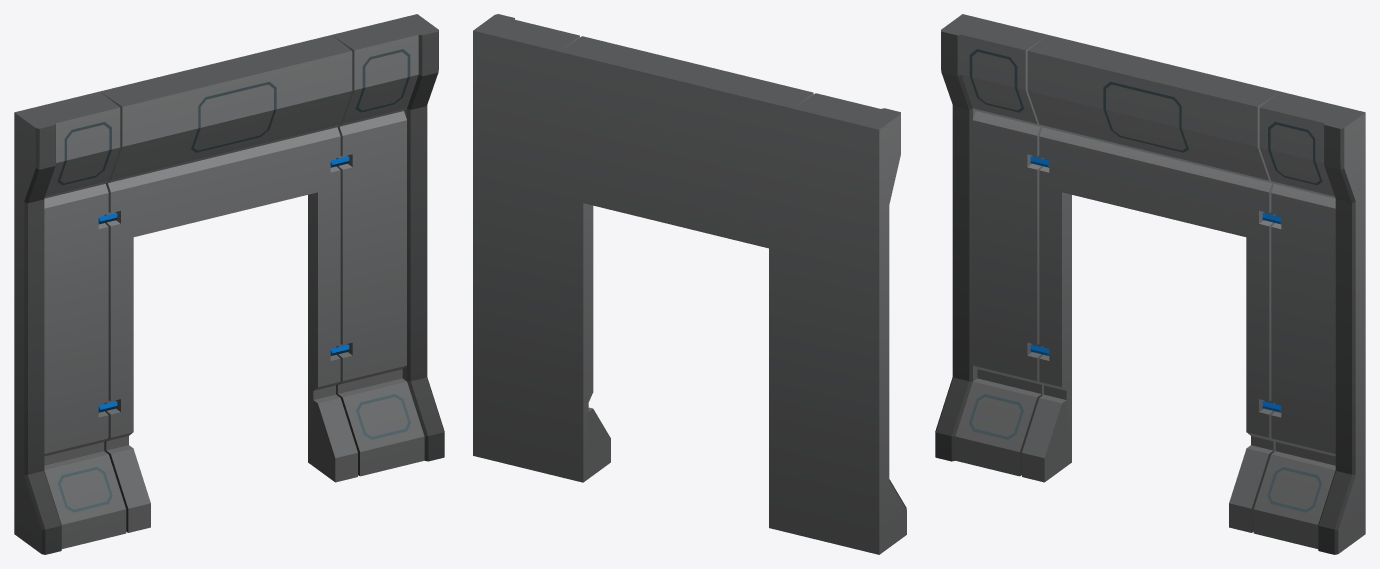
The model's file is Wall_type_B_072.fbx.
3 views of the same model, side by side, from view 1: azimuth 30°, elevation 25°; view 2: azimuth 150°, elevation 25°; view 3: azimuth 330°, elevation 25° (orthographic).
Parts seen in each view (by area): view 1: Wall_type_B_072; view 2: Wall_type_B_072; view 3: Wall_type_B_072.
Boxes of the visible parts, x1,y1,x2,y2 form: Wall_type_B_072: (14, 14, 444, 554); Wall_type_B_072: (473, 14, 906, 554); Wall_type_B_072: (935, 14, 1365, 554).
Bounding box in the file's own units: 400 × 50 × 400.
